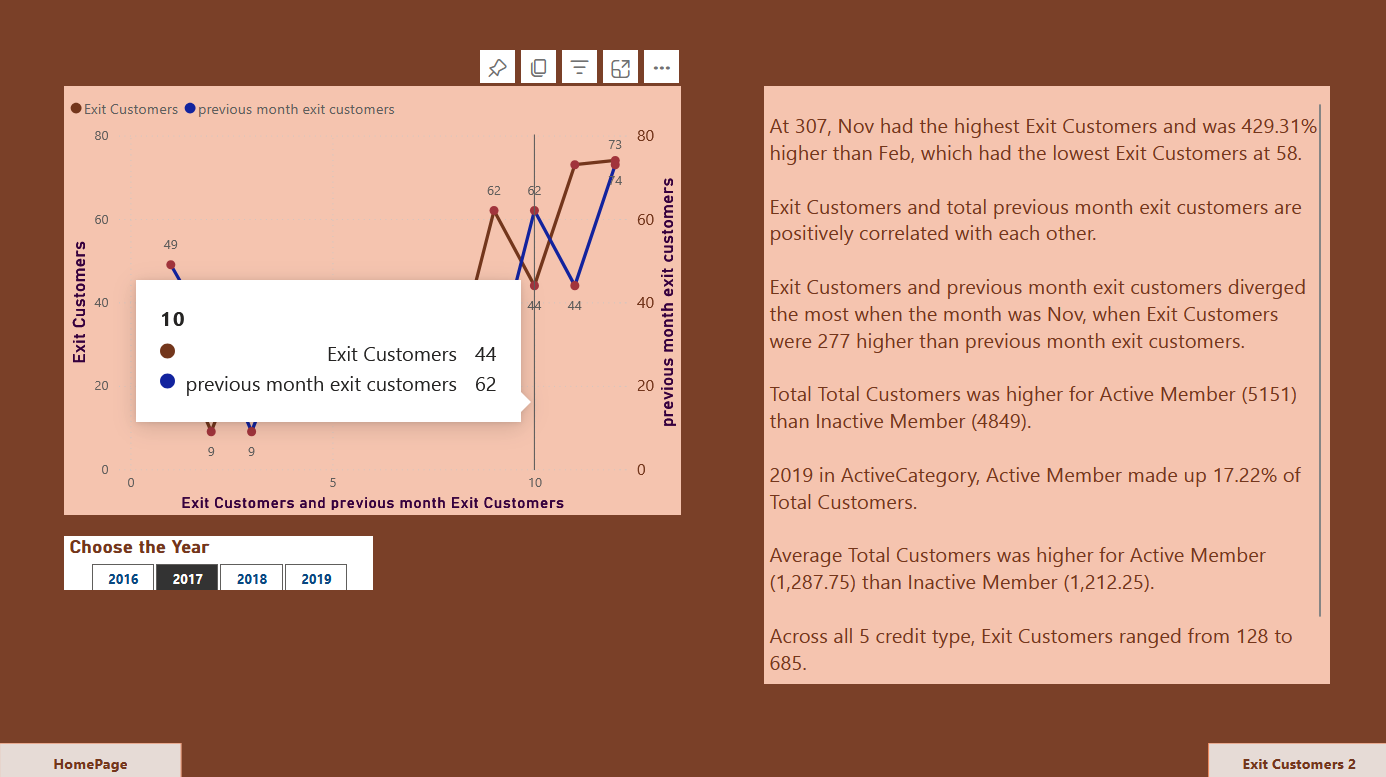

The dashboard page shown, as its layout file describes it:
{"tool":"powerbi","page":{"name":"ExitCustomers","canvas":[1280,720],"ordinal":3},"visuals":[{"type":"lineChart","fields":{"Y":["Calculations.Exit Customers"],"Category":["DateMaster.month"],"Y2":["Calculations.previous month exit customers"]},"box":[58.3,78.3,581.7,550],"z":0},{"type":"textbox","box":[703.3,78.3,520,550],"z":1000},{"type":"pageNavigator","box":[0,682.9,168.1,36.3],"z":2000},{"type":"pageNavigator","box":[1111.4,682.9,168.1,36.3],"z":3000}]}

Visuals, with their boxes on the page's 1280x720 design canvas (x1, y1, x2, y2). These are canvas units, not pixel positions in the 1386x777 screenshot, which may show the page scaled, cropped or inside an application window:
lineChart - Calculations.Exit Customers x DateMaster.month: {"left": 58, "top": 78, "right": 640, "bottom": 628}
textbox: {"left": 703, "top": 78, "right": 1223, "bottom": 628}
pageNavigator: {"left": 0, "top": 683, "right": 168, "bottom": 719}
pageNavigator: {"left": 1111, "top": 683, "right": 1280, "bottom": 719}
